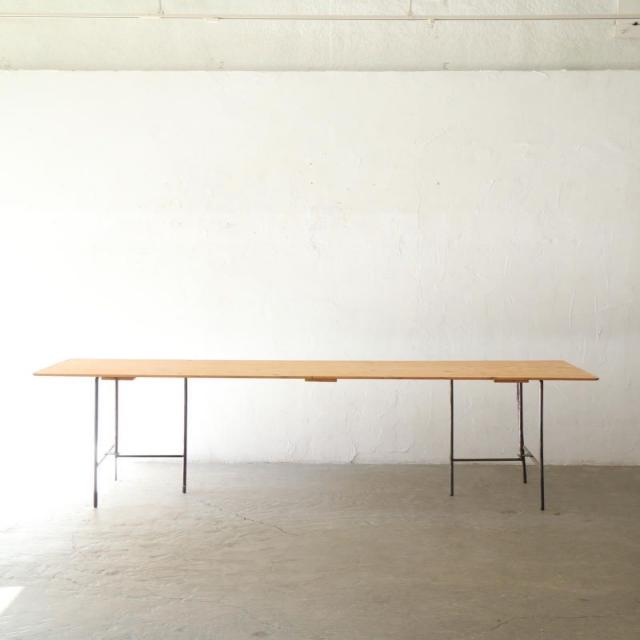table: (22, 330, 615, 562)
